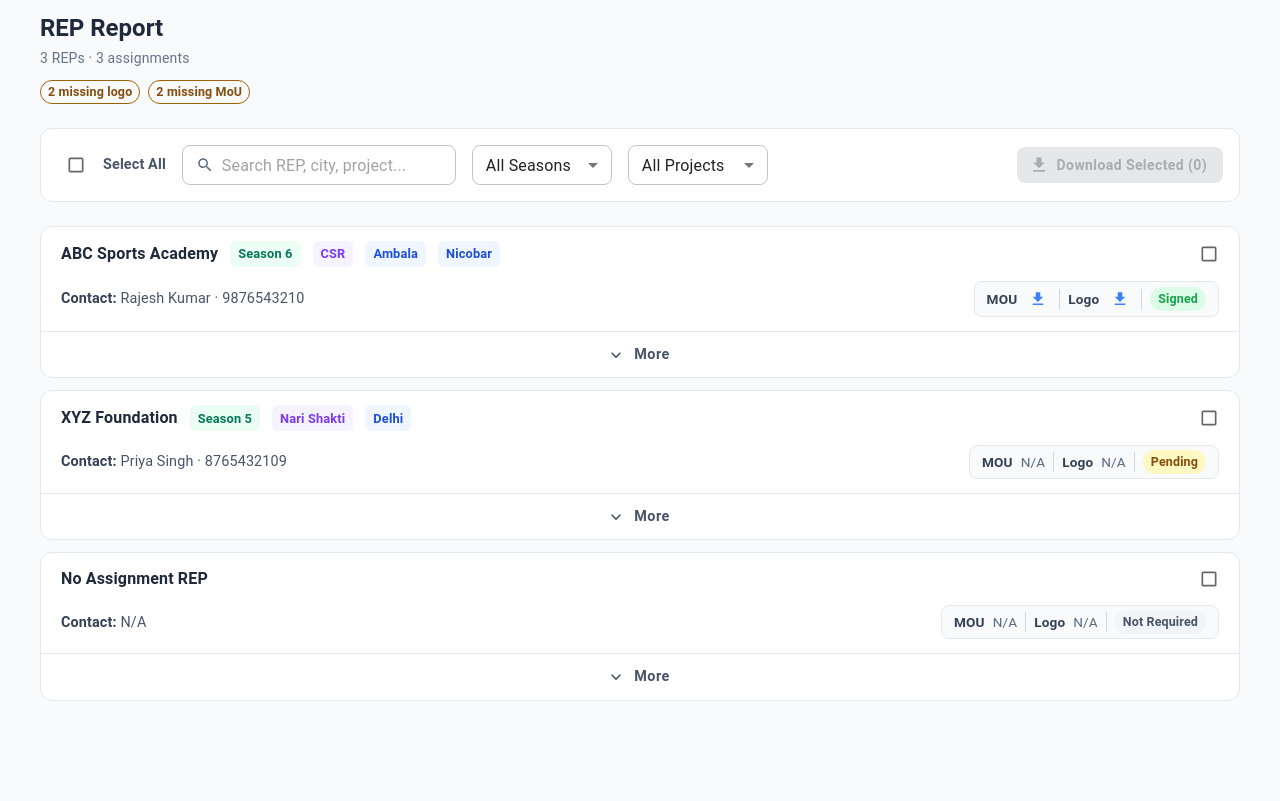
Test: SocialMediaReport › clicking card expands it to show assigned trials
Expected: the text "ABC Sports Academy" is shown, [61,242,218,266]
Click the button "More" below "Rajesh Kumar" at (640, 354), box [41,331,1239,377]
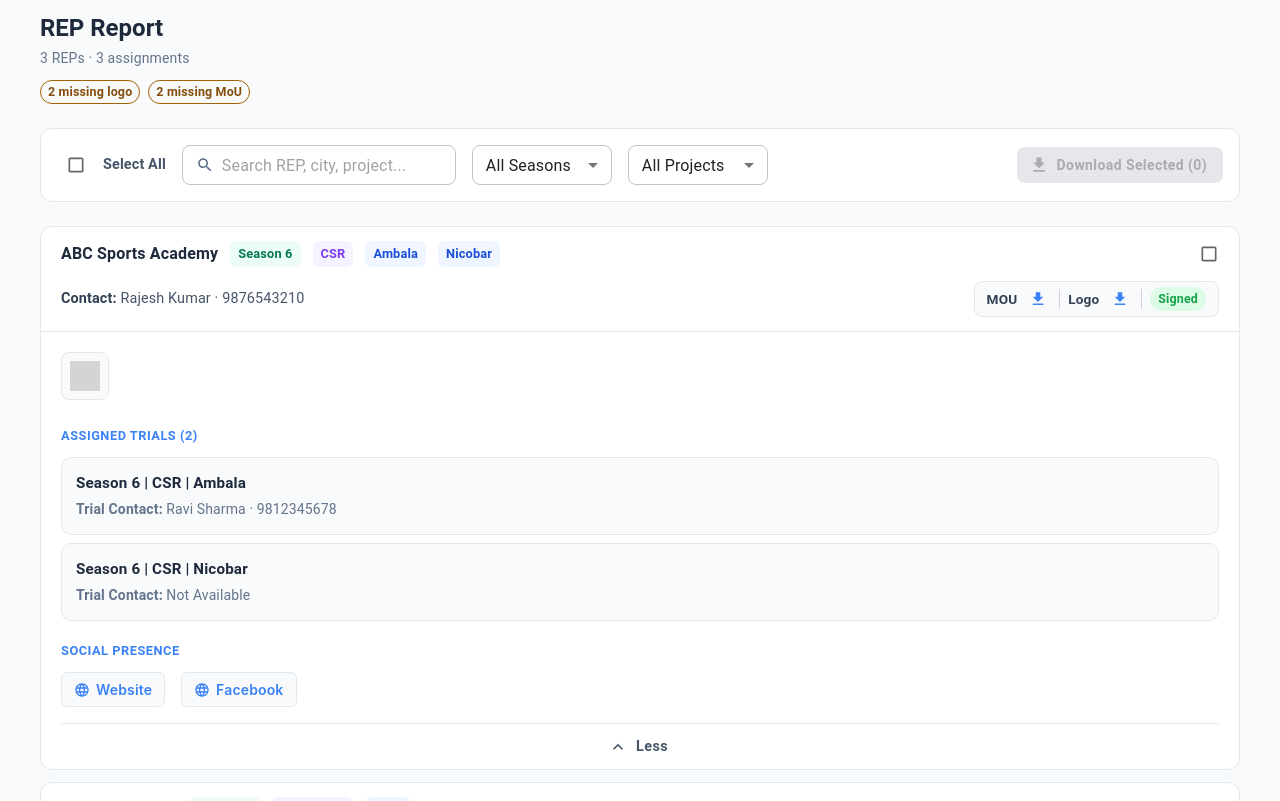
Expected: the text "Trial Contact: Ravi Sharma · 9812345678" is shown, [76,501,337,517]
Expected: the text "Season 6 | CSR | Ambala" is shown, [76,474,246,492]
Expected: the text "Season 6 | CSR | Nicobar" is shown, [76,560,248,578]
